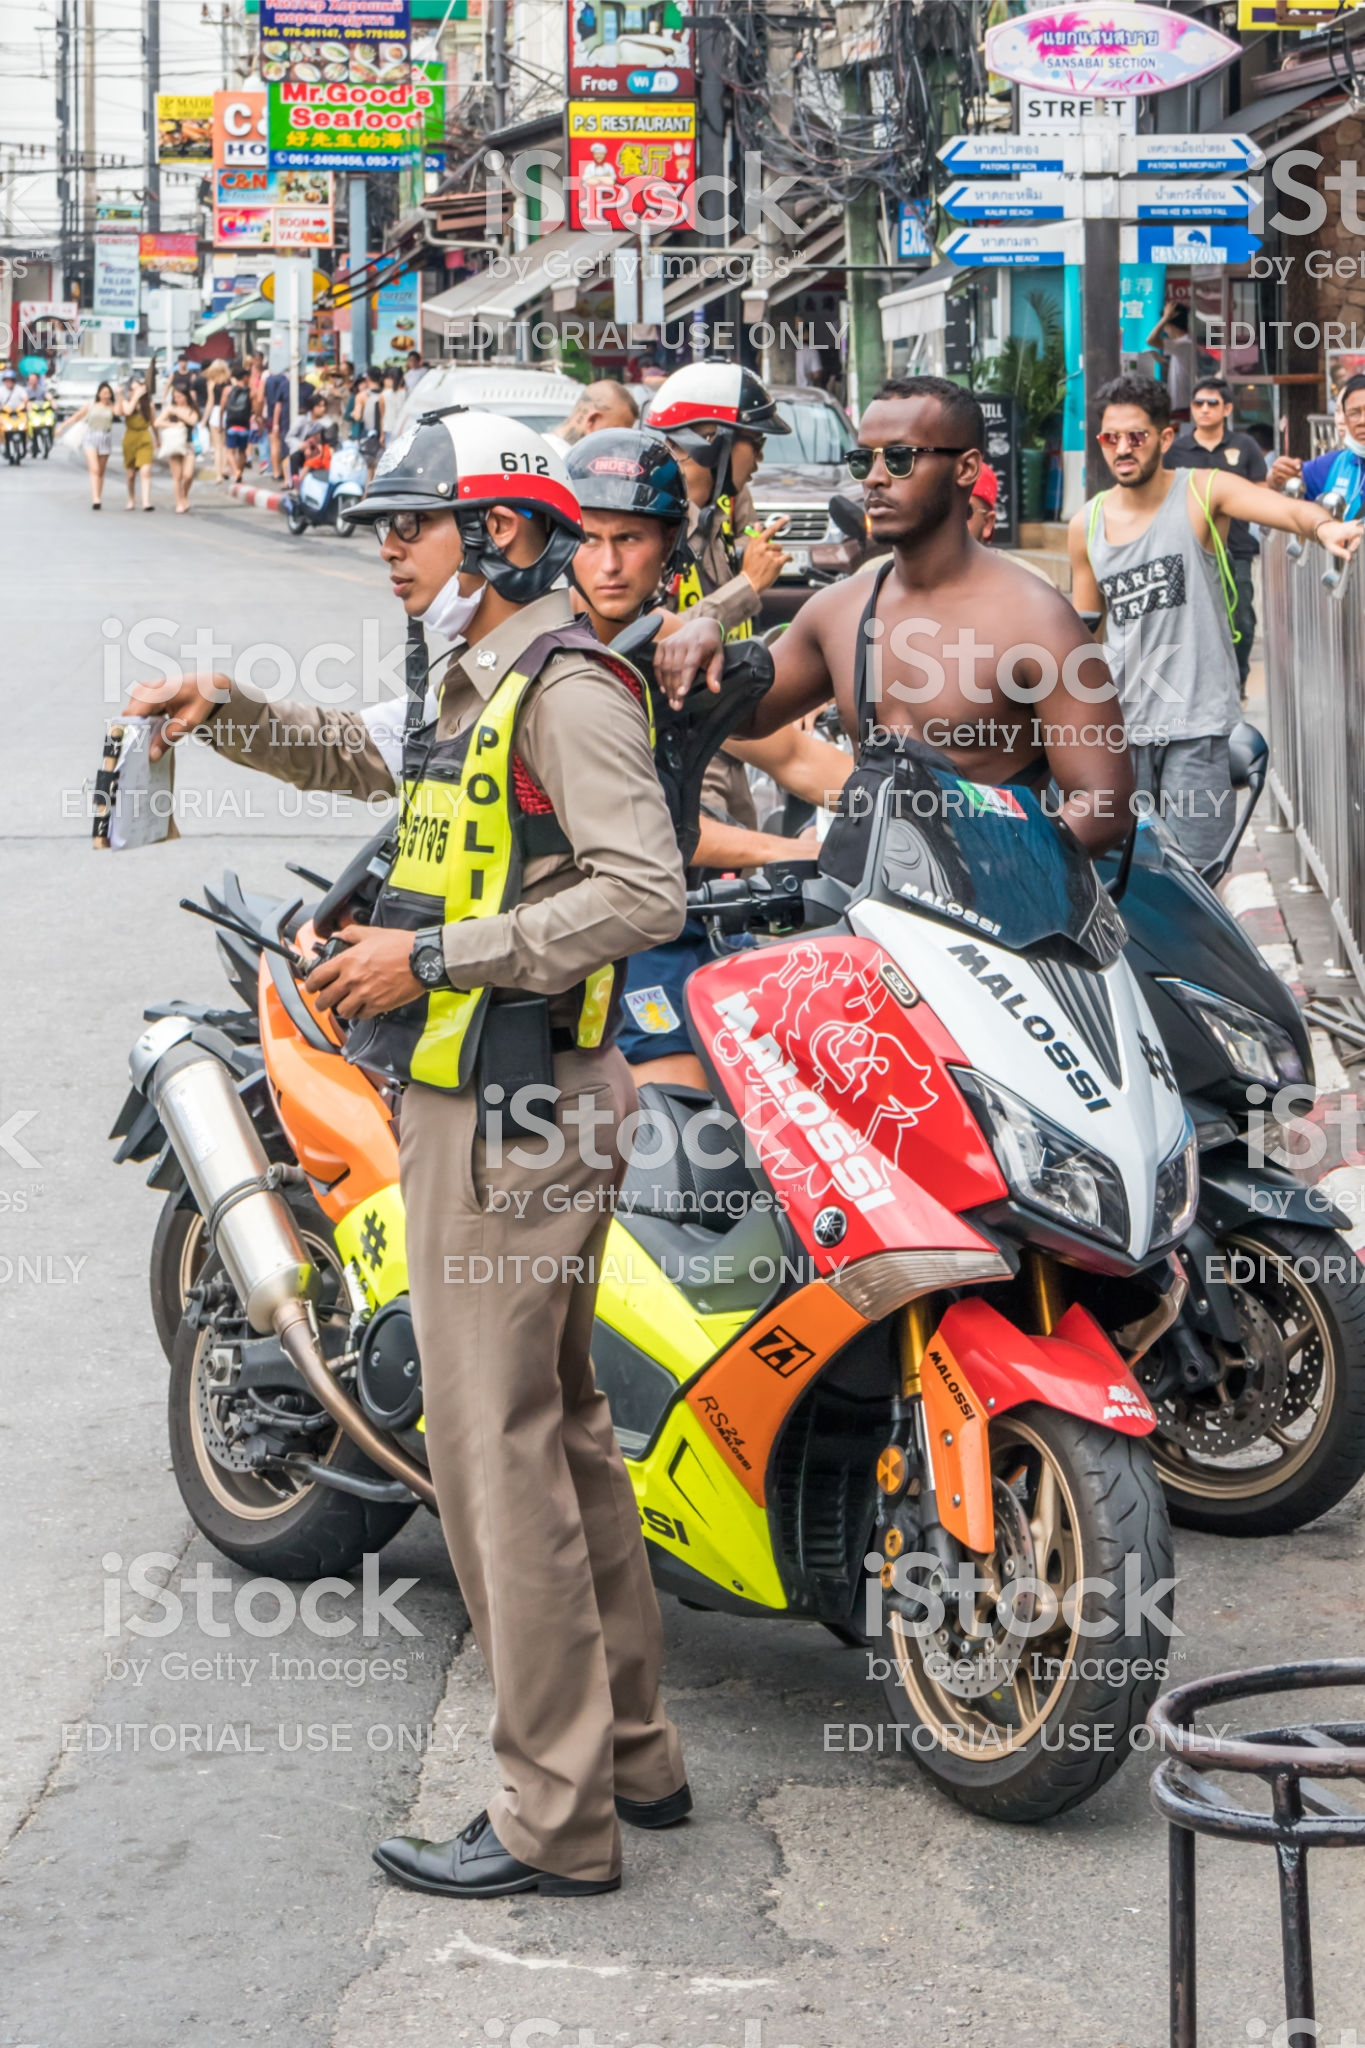helmet: (344, 416, 551, 534), (561, 419, 698, 534)
